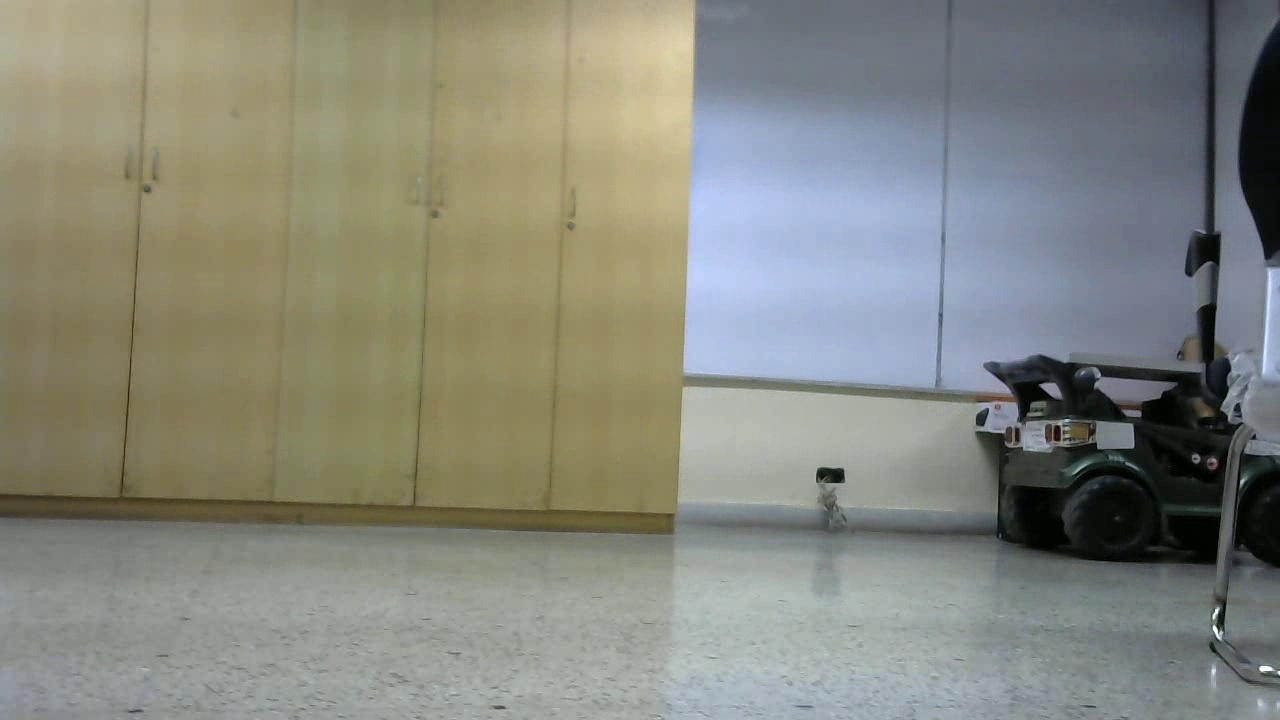chair: (703, 134, 1097, 649), (228, 118, 457, 567)
